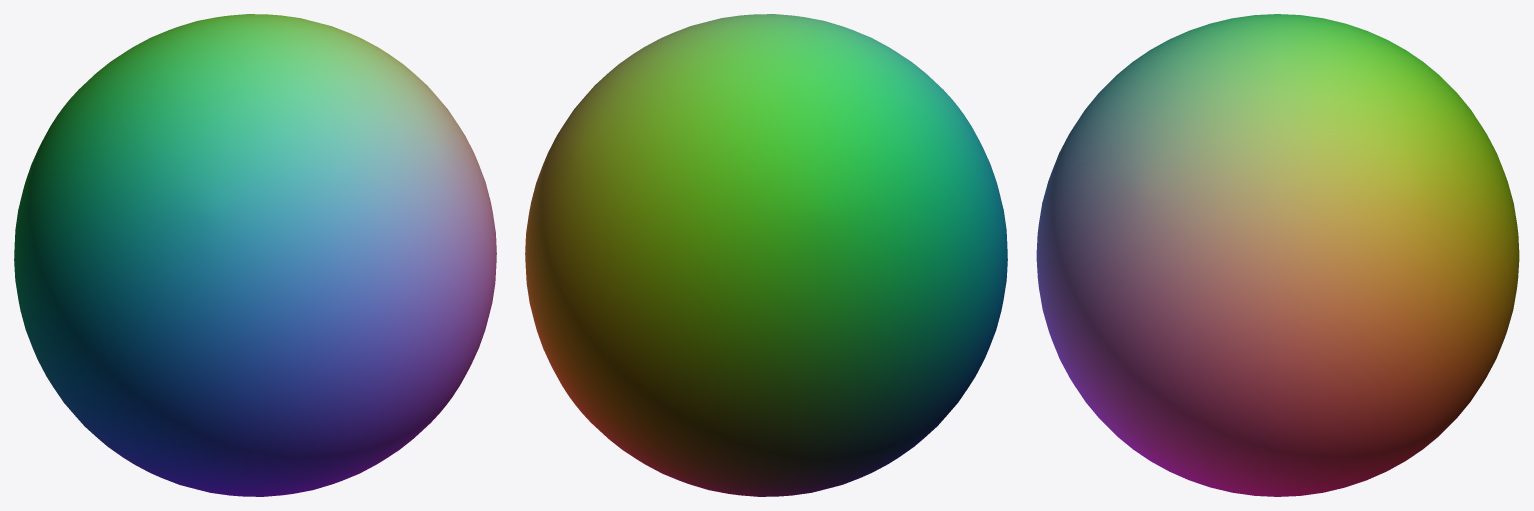
Rendered from zeometry-basic-shapes-sphere_v20.fbx.
3 views of the same model, side by side, from view 1: azimuth 30°, elevation 25°; view 2: azimuth 150°, elevation 25°; view 3: azimuth 270°, elevation 25° (orthographic).
Visible parts, largest first — view 1: Sphere_v20; view 2: Sphere_v20; view 3: Sphere_v20.
Part boxes in pixels (x1,y1,x2,y2): Sphere_v20: (14,14,496,496); Sphere_v20: (525,14,1007,496); Sphere_v20: (1036,14,1519,496).
Bounding box in the file's own units: 0.5 × 0.4999 × 0.5.
